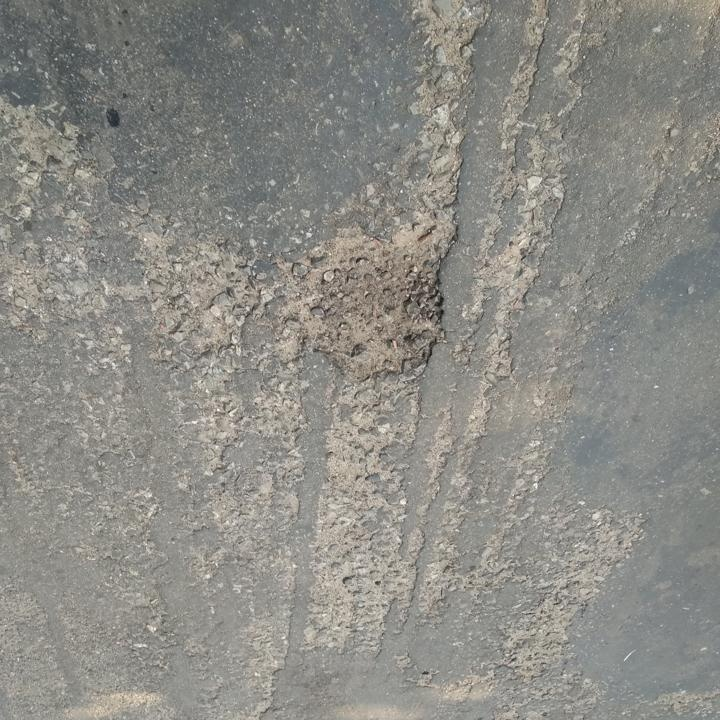pothole: (303, 214, 463, 386)
